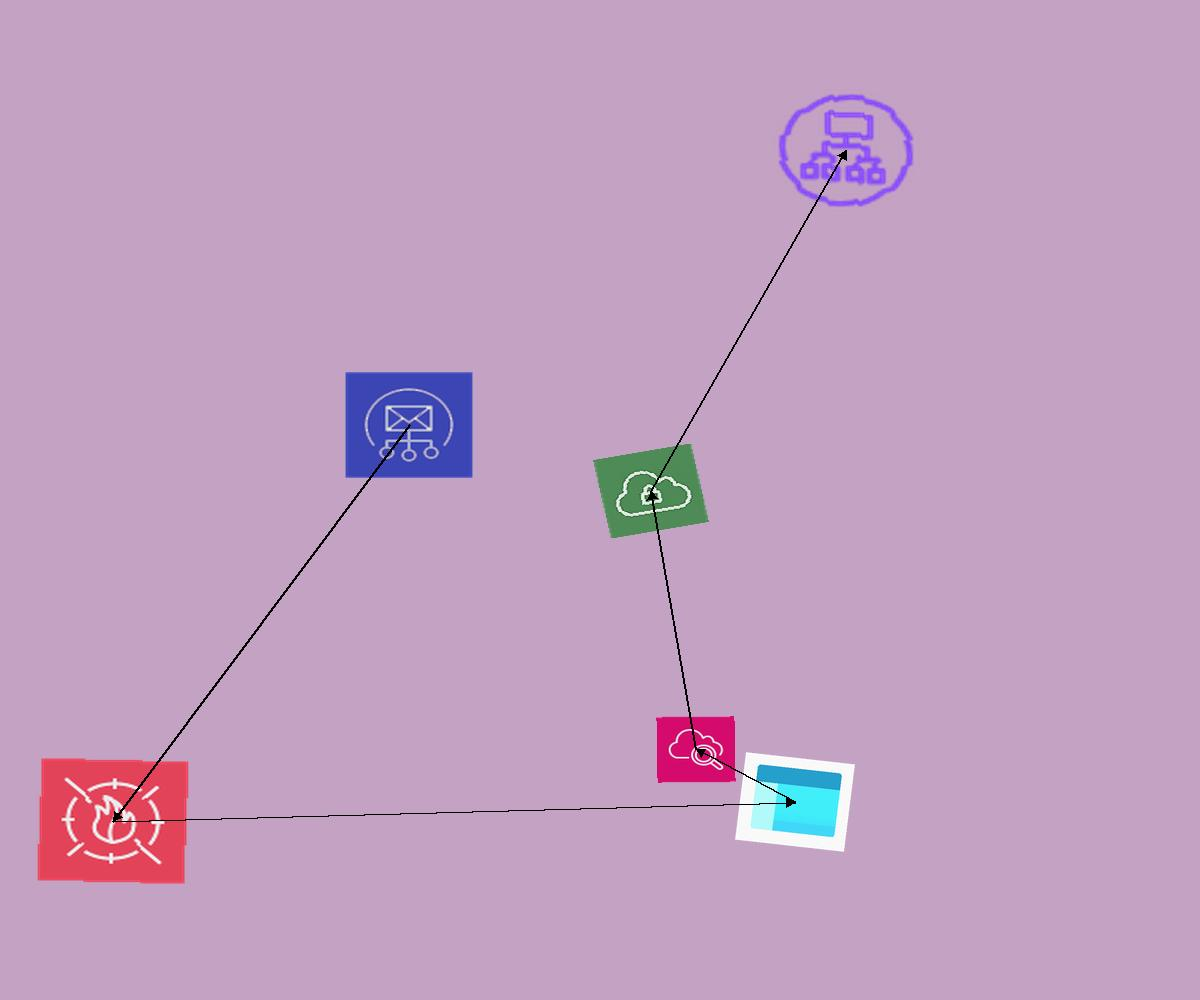AWS-CloudWatch: (656, 716, 736, 783)
AWS-Private_vpc: (593, 443, 709, 539)
AWS-Res_Elastic-Load-Balancing_Application-Load-Balancer: (764, 82, 928, 219)
AWS-Simple-Email-Service: (344, 371, 474, 479)
AWS-WAF: (36, 757, 190, 885)
Azure_management-portal: (735, 752, 855, 852)
